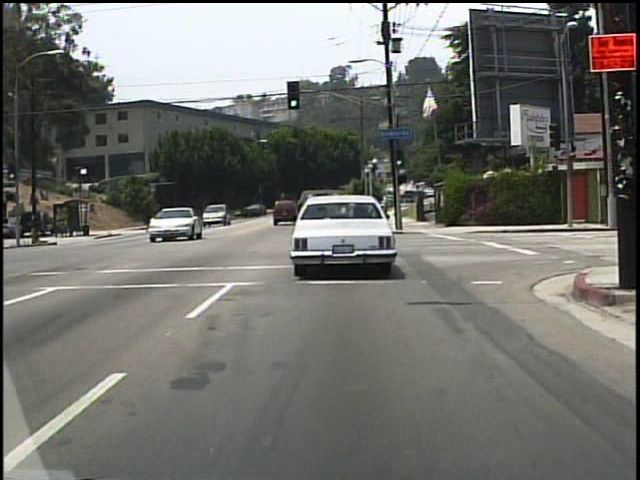person: (159, 209, 167, 229)
